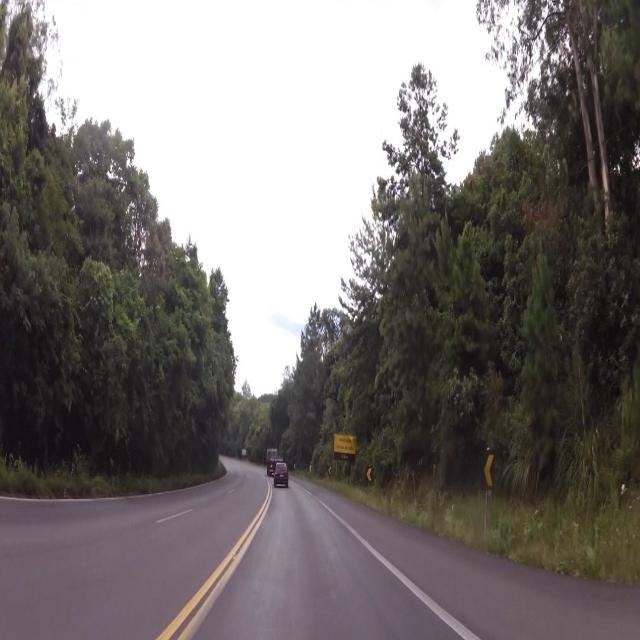Del: (481, 450, 495, 489), (366, 463, 373, 488)
